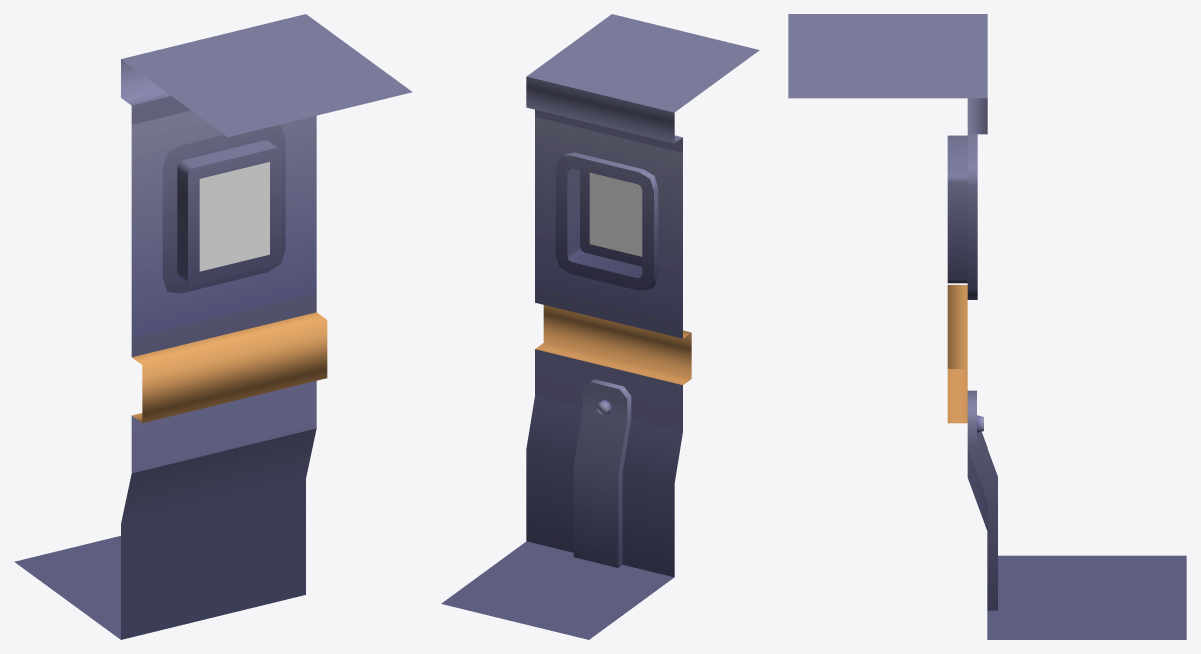
The model's file is structure-window.glb.
3 renders of one model, left to right at view 1: azimuth 30°, elevation 25°; view 2: azimuth 150°, elevation 25°; view 3: azimuth 270°, elevation 25°, orthographic. The views are drawn at different scales.
Visible parts, largest first — view 1: structure-window; view 2: structure-window; view 3: structure-window.
Part boxes in pixels (x1,y1,x2,y2): structure-window: [14, 14, 412, 639]; structure-window: [441, 14, 759, 639]; structure-window: [788, 14, 1186, 639].
Size of the model in its own units: 0.9999 by 3 by 2.
Materials: 1 (1 with a texture image).
